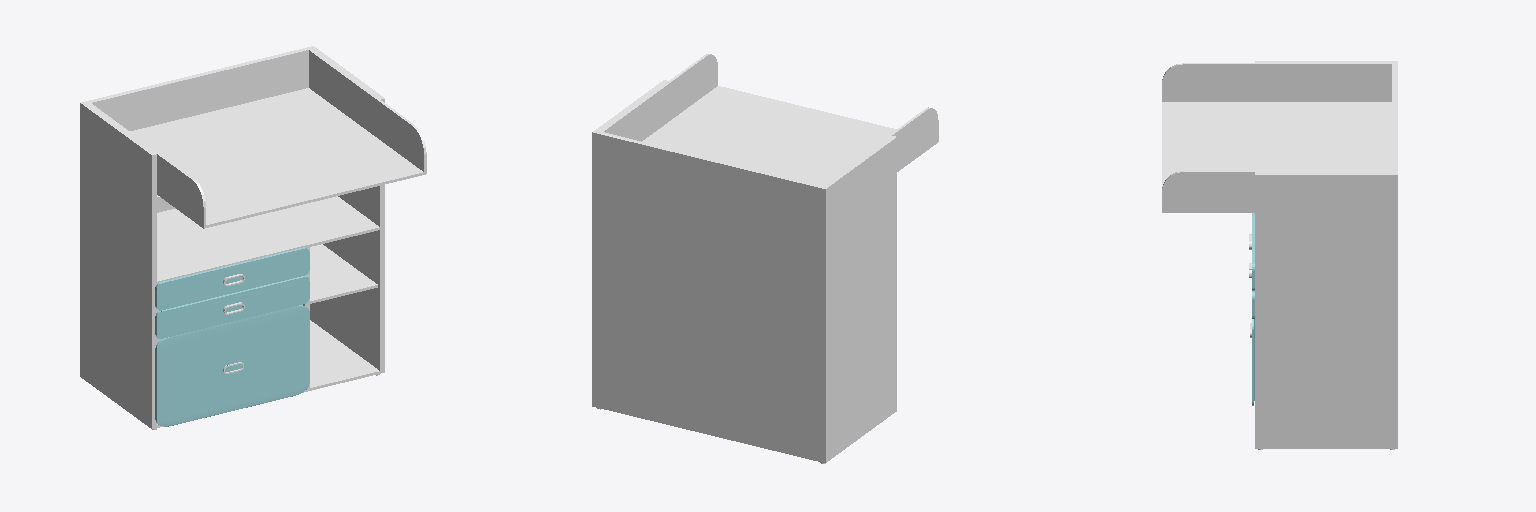
Rendered from ChangingTable_StuvaFritidsBlue.obj.
The picture shows the model from 3 angles: view 1: azimuth 30°, elevation 25°; view 2: azimuth 150°, elevation 25°; view 3: azimuth 270°, elevation 25°; orthographic projection.
Parts seen in each view (by area): view 1: obj_0; view 2: obj_0; view 3: obj_0.
Part boxes in pixels (x1,y1,x2,y2): obj_0: (80,46,426,429); obj_0: (592,54,938,463); obj_0: (1162,61,1397,449).
Bounding box in the file's own units: 90 × 102 × 79.